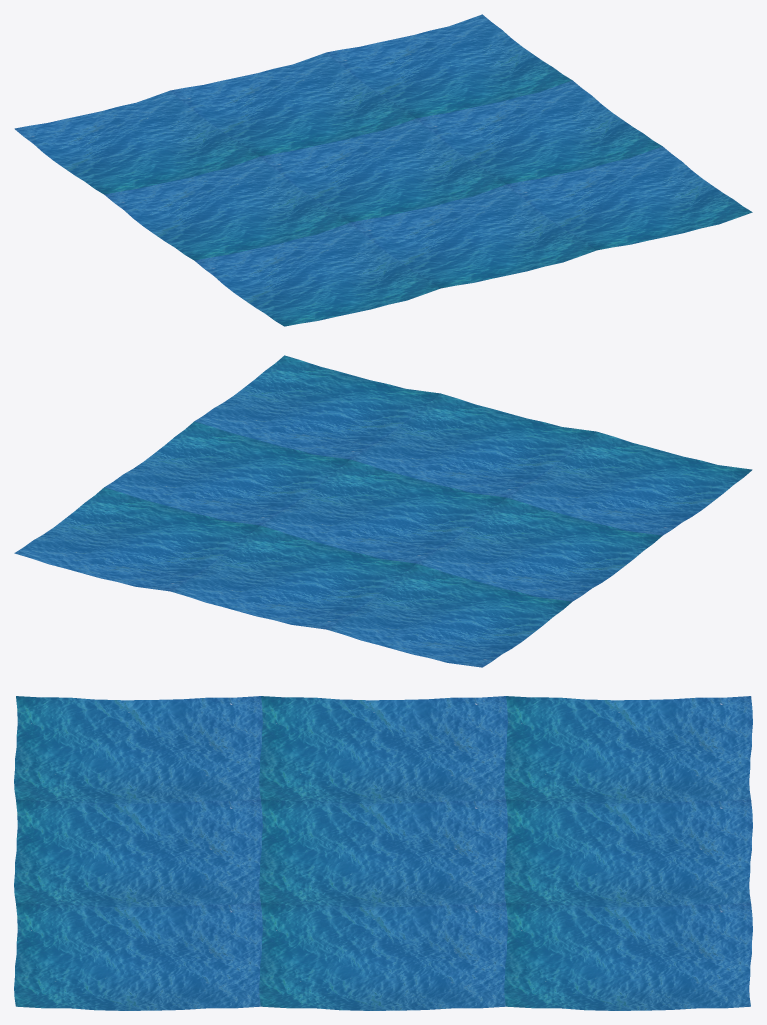
The model's file is ocean_000205.obj.
3 renders of one model, top to bottom at view 1: azimuth 30°, elevation 25°; view 2: azimuth 150°, elevation 25°; view 3: azimuth 270°, elevation 25°, orthographic. The views are drawn at different scales.
Parts seen in each view (by area): view 1: Ocean_Plan.001; view 2: Ocean_Plan.001; view 3: Ocean_Plan.001.
Part boxes in pixels (bbox=[...]): Ocean_Plan.001: bbox=[14, 14, 752, 326]; Ocean_Plan.001: bbox=[14, 355, 752, 667]; Ocean_Plan.001: bbox=[14, 696, 752, 1010].
Size of the model in its own units: 109063 by 1638 by 109528.
1 material, 1 textured.
